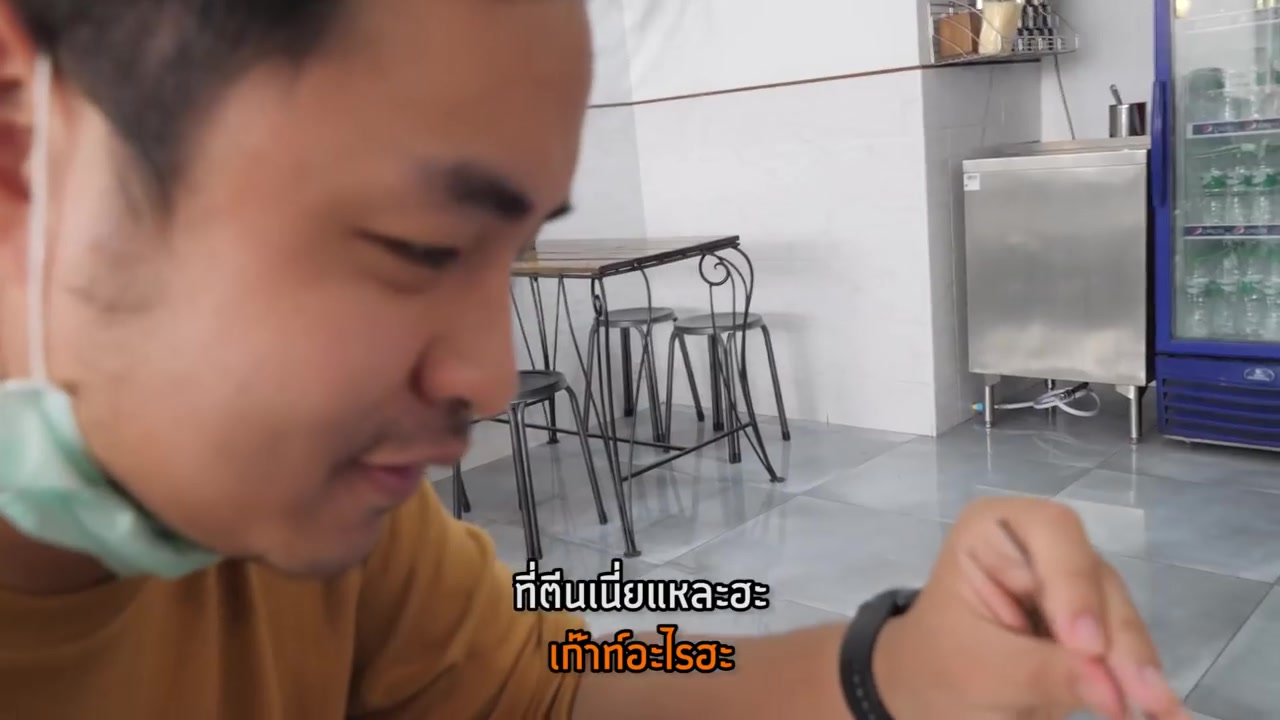text-label: (504, 556, 774, 615), (545, 623, 736, 678)
